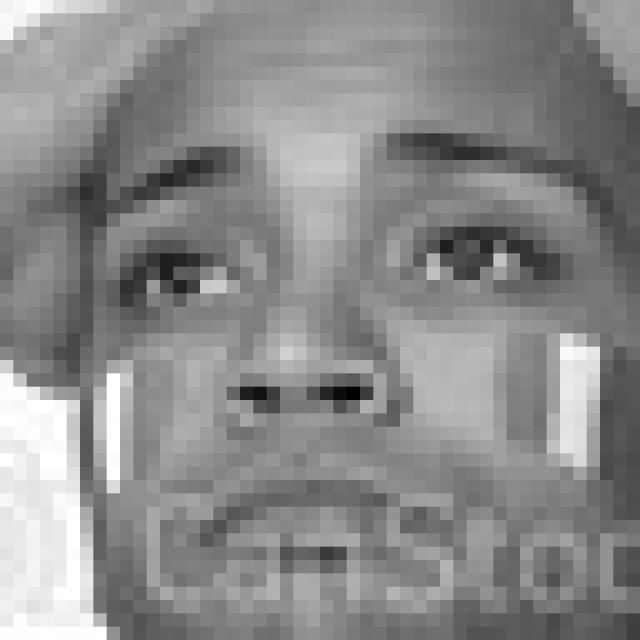sad: (107, 135, 618, 567)
